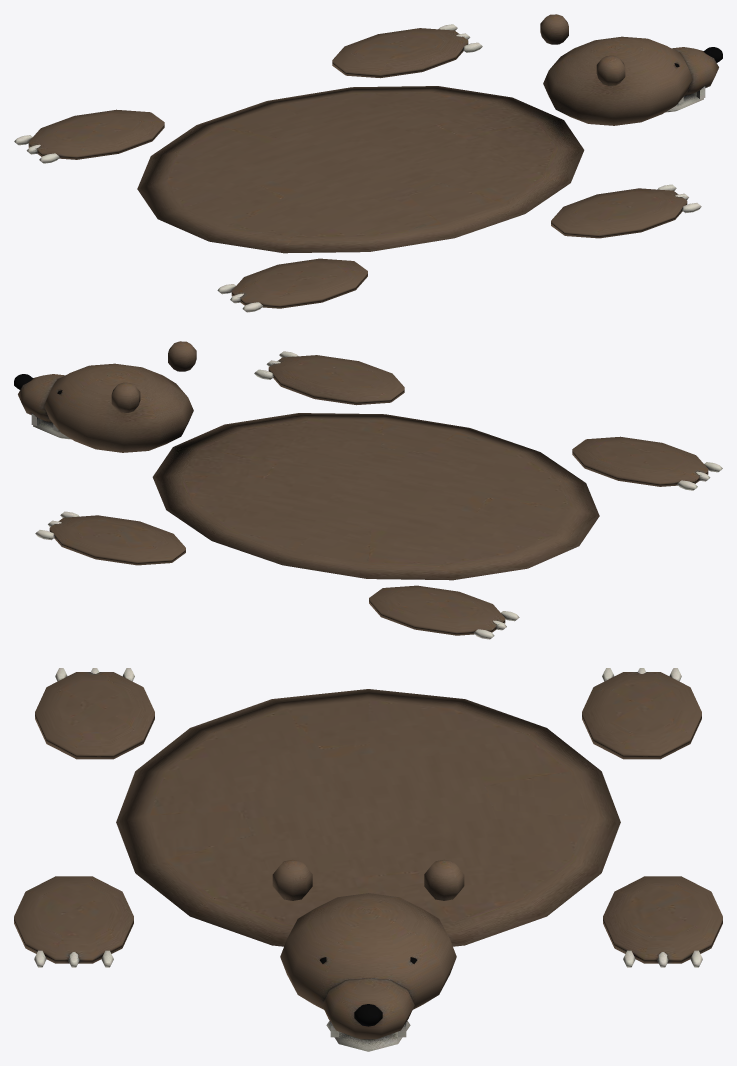
The model's file is bearskin.glb.
The picture shows the model from 3 angles, top to bottom: view 1: azimuth 30°, elevation 25°; view 2: azimuth 150°, elevation 25°; view 3: azimuth 270°, elevation 25°; orthographic projection. The views are drawn at different scales.
Parts seen in each view (by area): view 1: body; view 2: body; view 3: body.
Part boxes in pixels (left/top/right/bottom): body: left=14, top=14, right=722, bottom=312; body: left=14, top=341, right=722, bottom=639; body: left=14, top=668, right=722, bottom=1051.
Size of the model in its own units: 2.19 by 0.315 by 1.69.
1 material, 1 textured.
